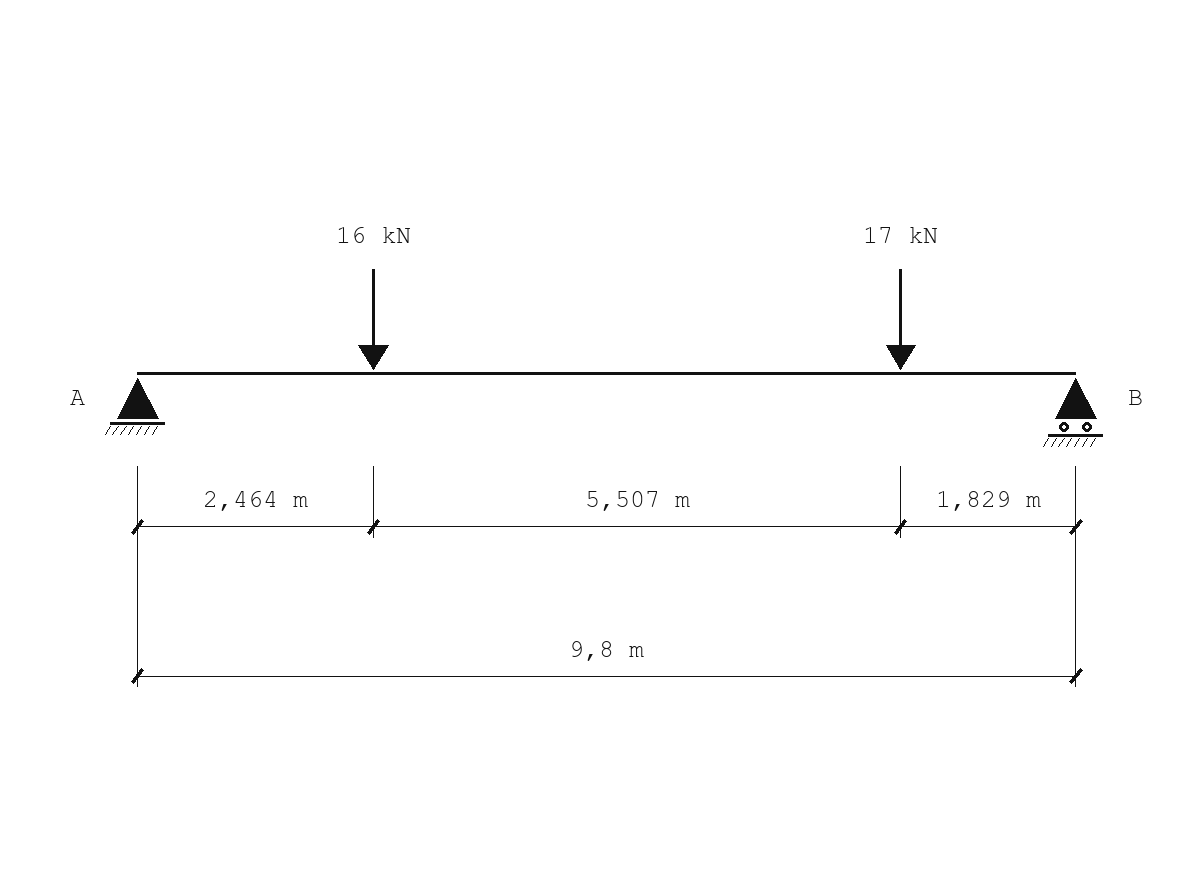pin_support: (105, 378, 165, 435)
point_load: (358, 269, 389, 370), (886, 269, 916, 370)
roller_support: (1043, 378, 1103, 447)
